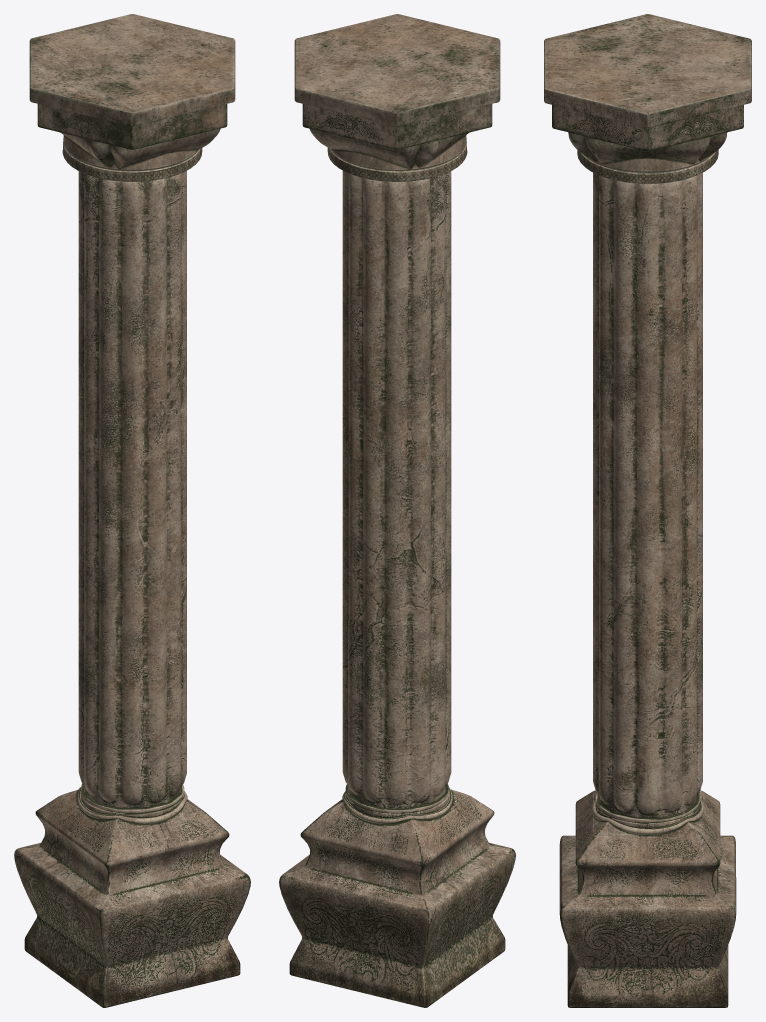
File: greek_underwater_column_5.glb
3 renders of one model, left to right at view 1: azimuth 30°, elevation 25°; view 2: azimuth 150°, elevation 25°; view 3: azimuth 270°, elevation 25°, orthographic.
Visible parts, largest first — view 1: mesh_01_low, mesh_02_low; view 2: mesh_01_low, mesh_02_low; view 3: mesh_01_low, mesh_02_low.
Part boxes in pixels (x1,y1,x2,y2): mesh_01_low: [62, 135, 202, 823]; mesh_02_low: [14, 14, 250, 1007]; mesh_01_low: [327, 135, 467, 823]; mesh_02_low: [279, 14, 515, 1007]; mesh_01_low: [577, 150, 718, 834]; mesh_02_low: [544, 14, 751, 1007].
Size of the model in its own units: 103 by 431 by 89.24.
2 materials, 2 textured.
